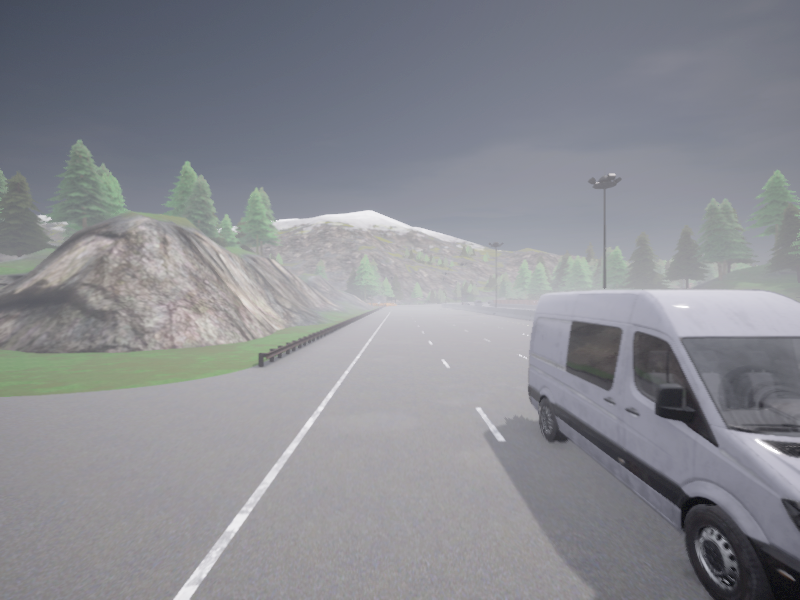vehicle: (527, 290, 799, 599), (474, 300, 481, 305), (463, 303, 469, 304), (489, 301, 492, 303), (463, 302, 466, 303), (482, 302, 483, 303)
